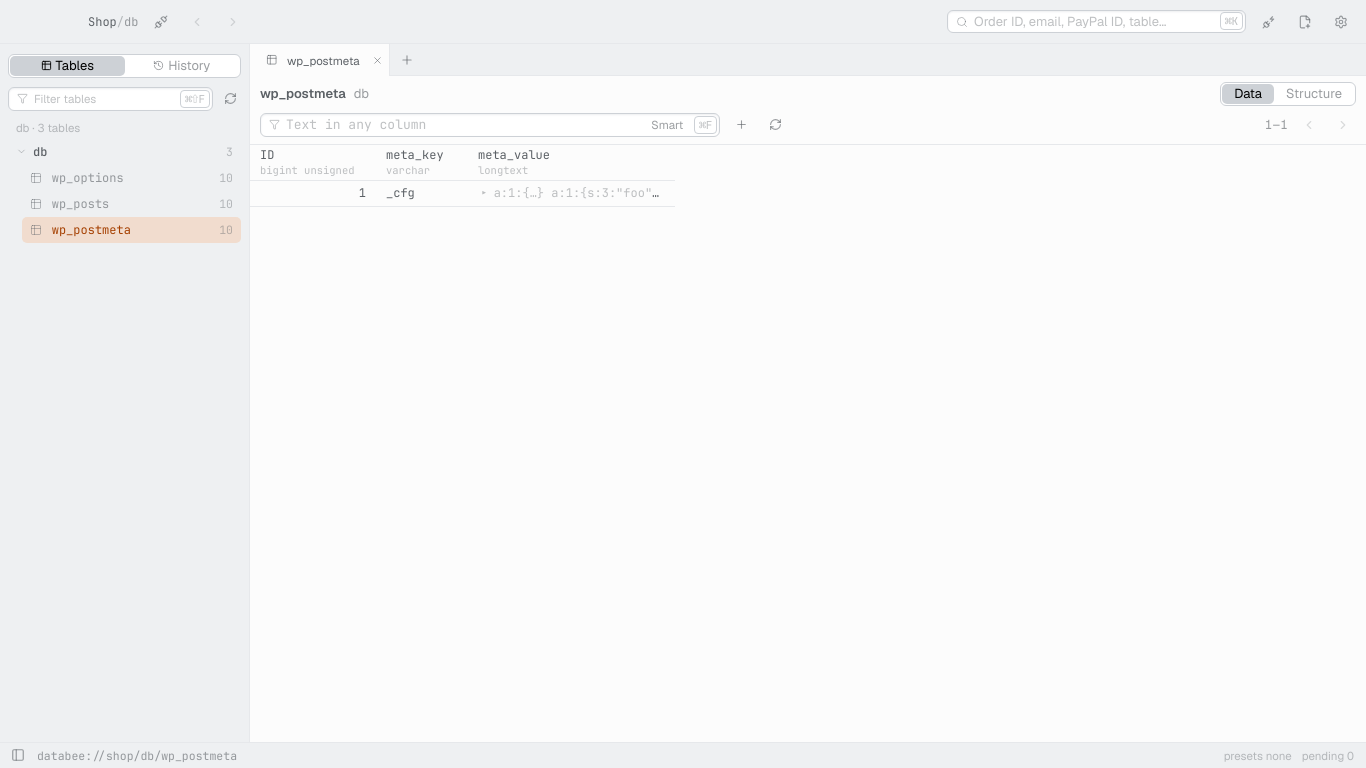
Test: value column of a table tab › opens the selected serialized cell as a tree on Enter
Click the text "_cfg" at (400, 193), box left=386, top=185, right=415, bottom=201
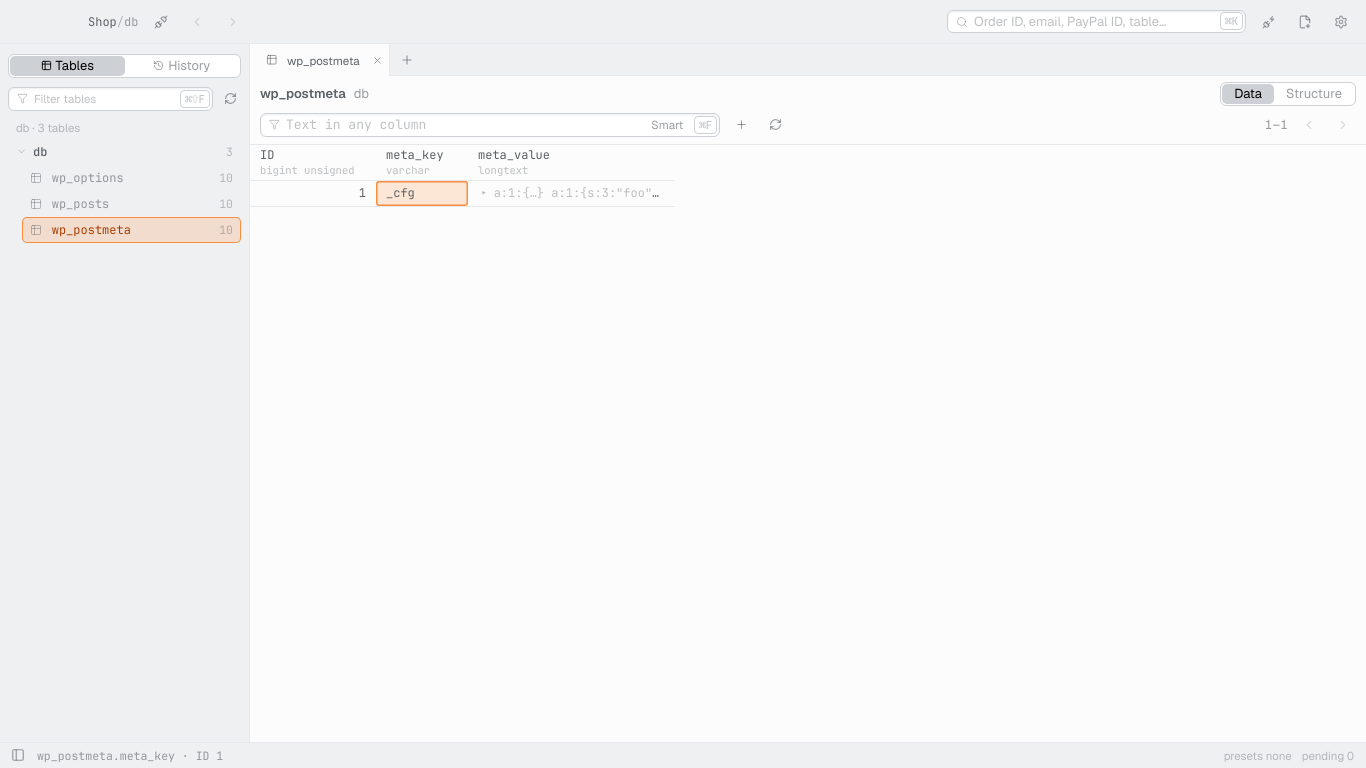
Press Arrowright Enter
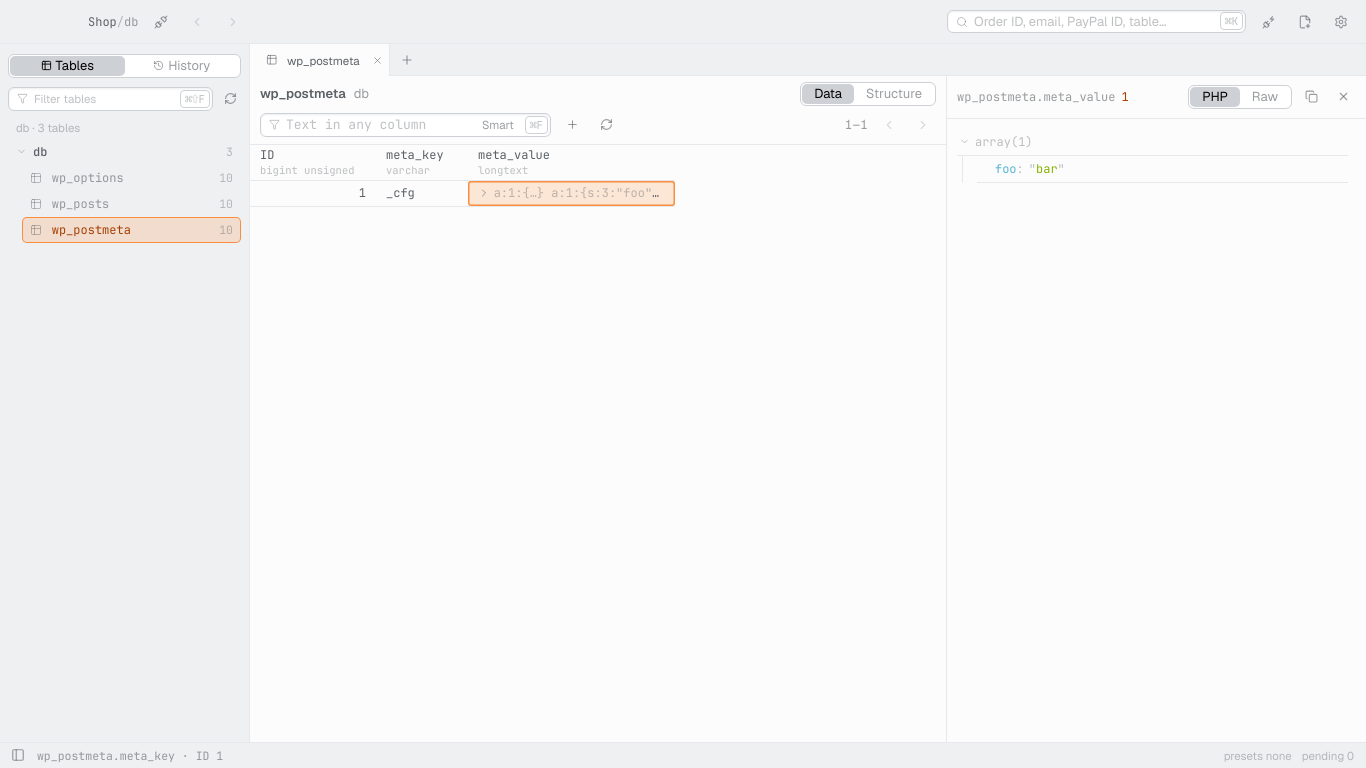
Expected: the element named "PHP value" is shown, left=957, top=129, right=1348, bottom=183
Expected: the text "bar" is shown, left=1036, top=161, right=1058, bottom=177
